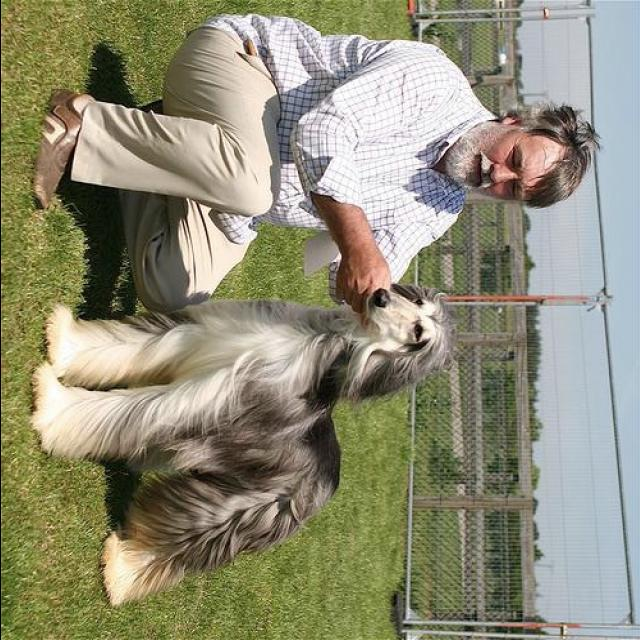afghan_hound: (30, 280, 468, 609)
